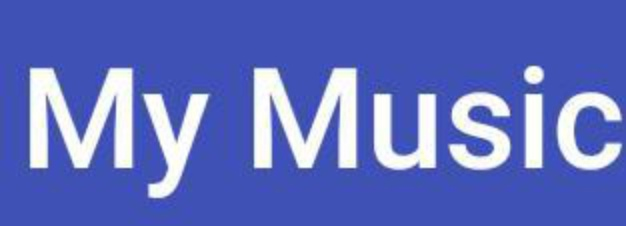TextView: (1, 1, 625, 225)
